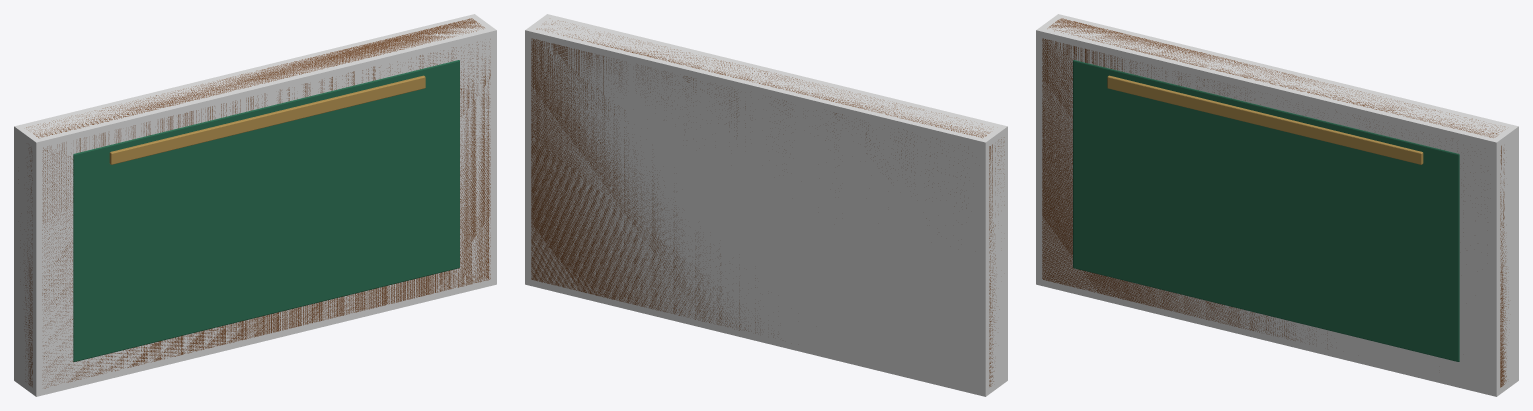
File: signage_boutique.glb
3 renders of one model, left to right at view 1: azimuth 30°, elevation 25°; view 2: azimuth 150°, elevation 25°; view 3: azimuth 330°, elevation 25°, orthographic.
Parts seen in each view (by area): view 1: MESH_Inset, COL_signage, MESH_Frame, MESH_TierTrim_01; view 2: COL_signage, MESH_Frame; view 3: MESH_Inset, COL_signage, MESH_Frame, MESH_TierTrim_01.
Boxes of the visible parts, x1,y1,x2,y2 form: MESH_Inset: (73,60,459,361); COL_signage: (14,14,496,396); MESH_Frame: (18,18,490,388); MESH_TierTrim_01: (109,75,425,164); COL_signage: (525,14,1007,396); MESH_Frame: (531,20,1004,386); MESH_Inset: (1073,60,1459,361); COL_signage: (1036,14,1518,396); MESH_Frame: (1042,18,1509,387); MESH_TierTrim_01: (1107,75,1423,164).
Bounding box in the file's own units: 0.72 × 0.38 × 0.0656.
